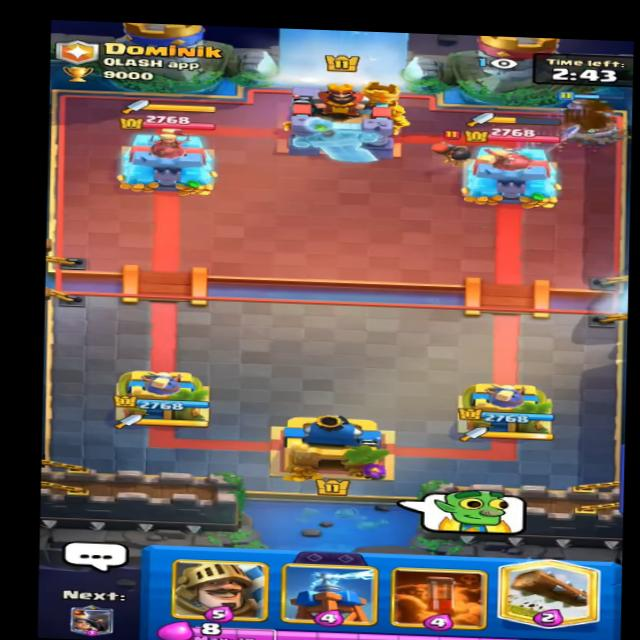Bomber: (422, 127, 476, 170)
